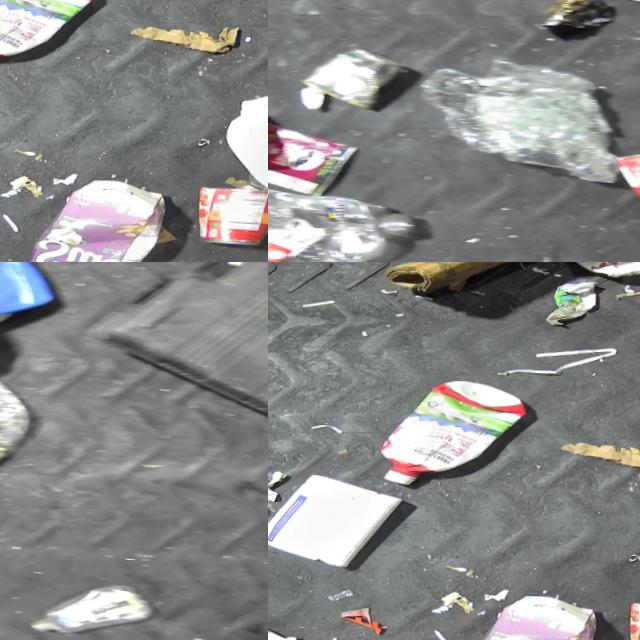can: (296, 49, 418, 119), (615, 153, 640, 218), (561, 262, 640, 282)
non_white_jug: (378, 377, 532, 493), (455, 594, 608, 640), (0, 262, 63, 360)
plastic_bottle: (268, 179, 429, 262), (25, 578, 169, 640), (0, 363, 41, 486)
